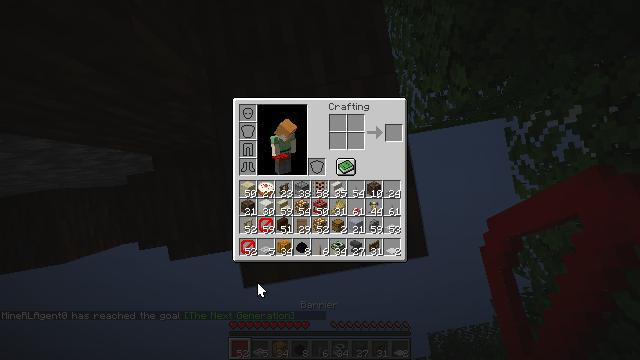cursor: (257, 282, 267, 298)
